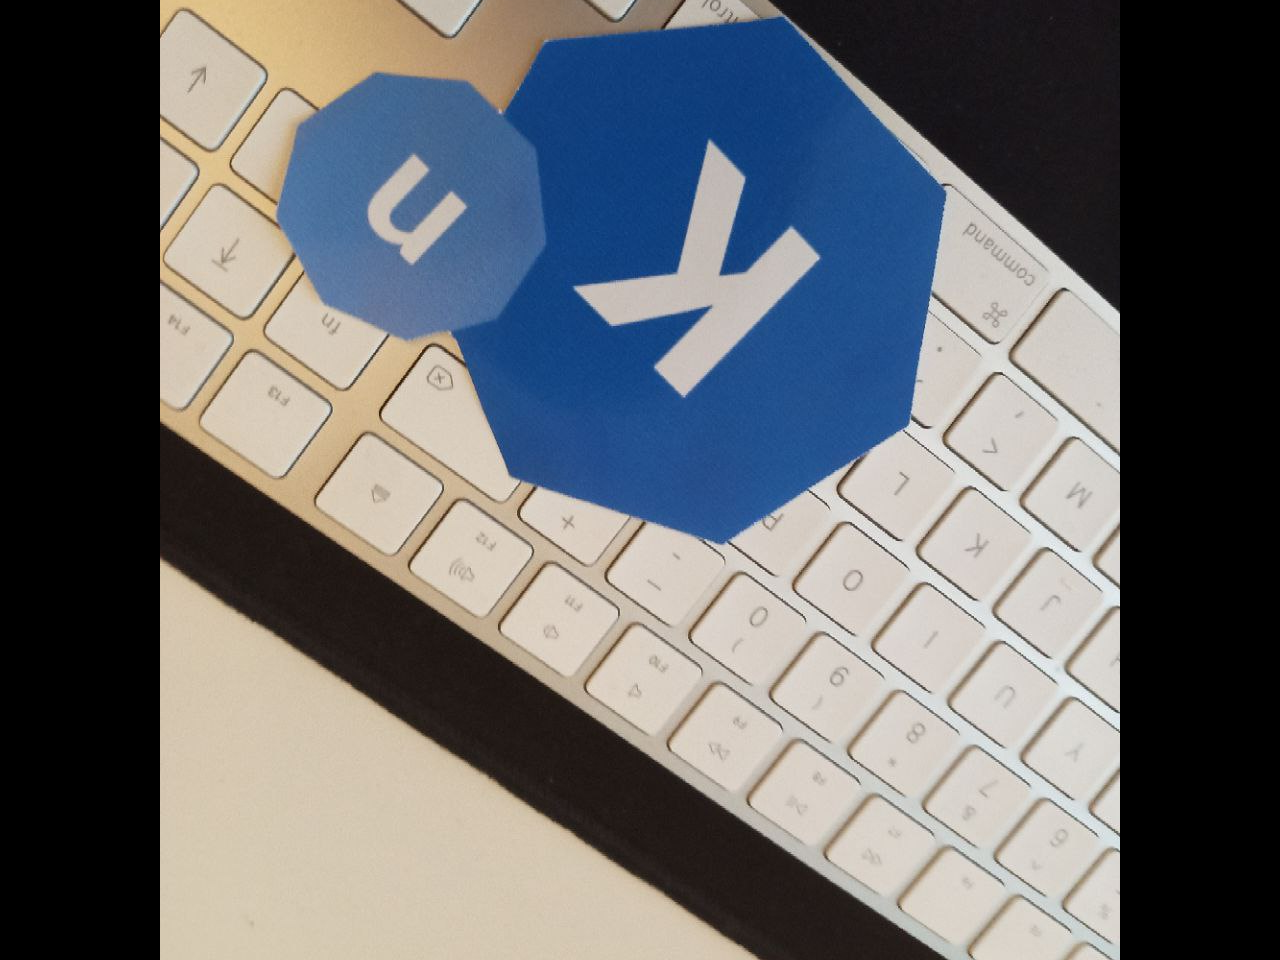knative: (277, 15, 944, 544)
